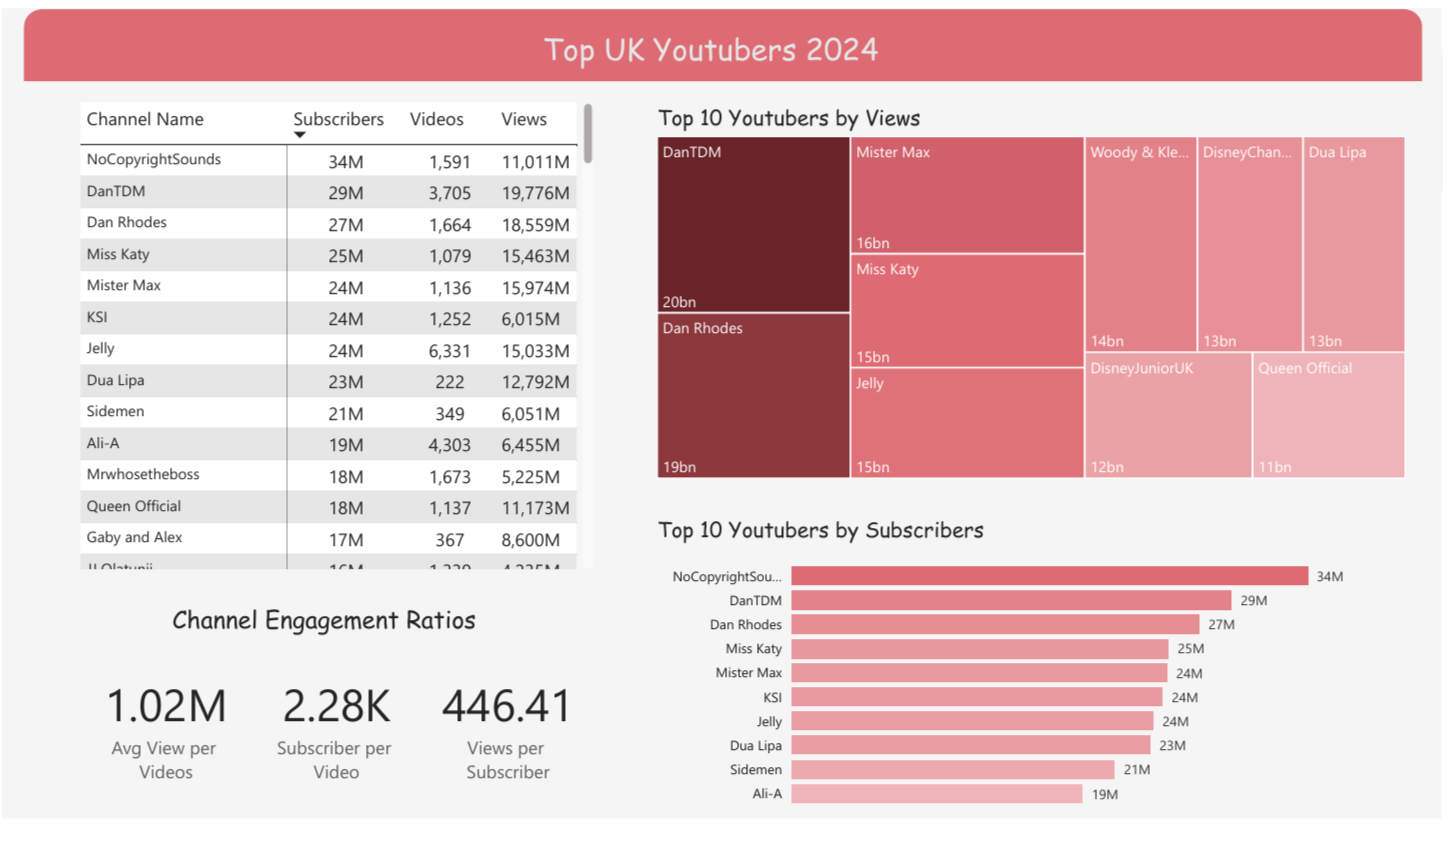

What the dashboard file says about the page in this screenshot:
{"tool":"powerbi","page":{"name":"Page 1","canvas":[1280,720],"ordinal":0},"visuals":[{"type":"pivotTable","fields":{"Rows":["uk_youtubers_2024.YtName"],"Values":["uk_youtubers_2024.total_subscribers","uk_youtubers_2024.total_videos","uk_youtubers_2024.total_views"]},"box":[45.8,81.4,466.1,442.4],"z":0},{"type":"treemap","title":"Top 10 Youtubers by Views","fields":{"Group":["uk_youtubers_2024.YtName"],"Values":["Measures Table.Total_Views"]},"box":[576.9,82.2,674.6,339.6],"z":1000},{"type":"card","fields":{"Values":["Measures Table.Avg_view_per_videos"]},"box":[65.1,535.1,161.3,184.6],"z":2000},{"type":"card","fields":{"Values":["Measures Table.Subscriber_per_video"]},"box":[217.1,535.1,159.7,184.6],"z":3000},{"type":"card","fields":{"Values":["Measures Table.Views_per_subscriber"]},"box":[369.1,535.1,161.3,184.6],"z":4000},{"type":"clusteredBarChart","title":"Top 10 Youtubers by Subscribers","fields":{"Category":["uk_youtubers_2024.YtName"],"Y":["Measures Table.Total_Subscribers"]},"box":[576.9,448.2,620.4,271.4],"z":5000},{"type":"textbox","box":[106.8,535.6,381.4,64.4],"z":6000},{"type":"shape","box":[0,0,1279.7,64.4],"z":7000},{"type":"textbox","box":[449.2,5.1,381.4,54.2],"z":8000}]}

Visuals, with their boxes on the page's 1280x720 design canvas (x1, y1, x2, y2). These are canvas units, not pixel positions in the 1450x842 screenshot, which may show the page scaled, cropped or inside an application window:
pivotTable - uk_youtubers_2024.YtName x uk_youtubers_2024.total_subscribers: 46, 81, 512, 524
"Top 10 Youtubers by Views" treemap: 577, 82, 1252, 422
card - Measures Table.Avg_view_per_videos: 65, 535, 226, 720
card - Measures Table.Subscriber_per_video: 217, 535, 377, 720
card - Measures Table.Views_per_subscriber: 369, 535, 530, 720
"Top 10 Youtubers by Subscribers" clusteredBarChart: 577, 448, 1197, 720
textbox: 107, 536, 488, 600
shape: 0, 0, 1280, 64
textbox: 449, 5, 831, 59
